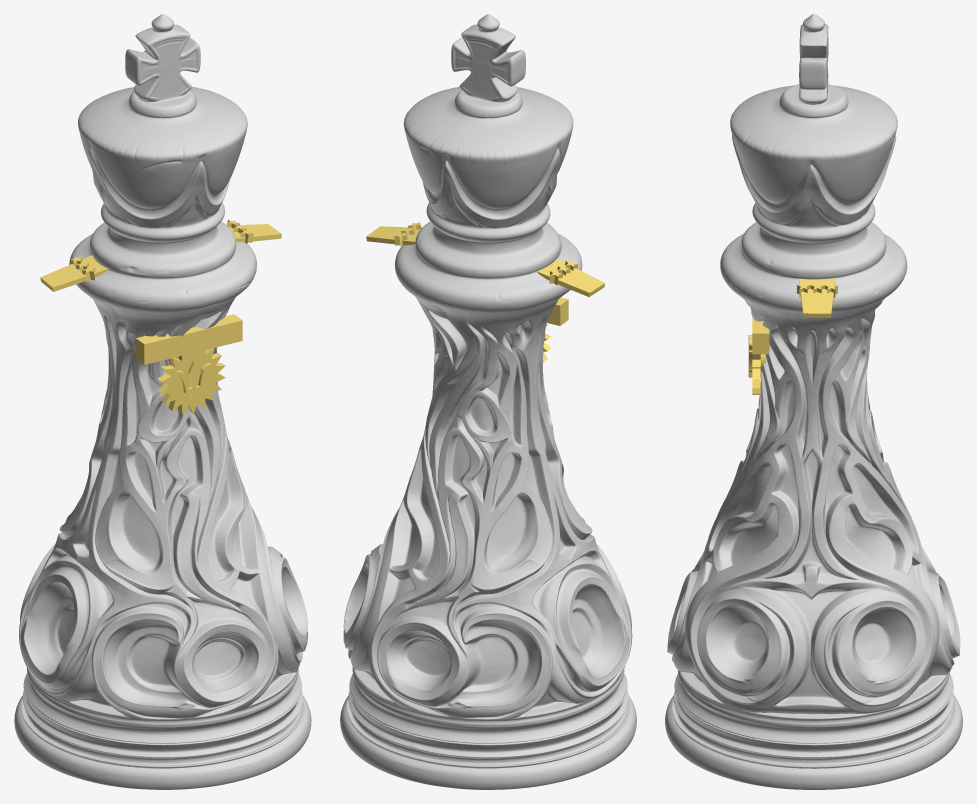
File: King - President.glb
3 views of the same model, side by side, from view 1: azimuth 30°, elevation 25°; view 2: azimuth 150°, elevation 25°; view 3: azimuth 270°, elevation 25° (orthographic).
Visible parts, largest first — view 1: obj_12_król, MedalBar, MedalDisc, EpauletteL, Curve.003, EpauletteL.001; view 2: obj_12_król, EpauletteL, EpauletteL.001; view 3: obj_12_król, EpauletteL.001, MedalBar.
Boxes of the visible parts, x1,y1,x2,y2 form: obj_12_król: (14, 14, 311, 789); MedalBar: (136, 314, 242, 364); MedalDisc: (157, 345, 225, 414); EpauletteL: (40, 255, 108, 291); Curve.003: (176, 361, 211, 401); EpauletteL.001: (229, 224, 281, 242); obj_12_król: (340, 14, 636, 789); EpauletteL: (537, 258, 604, 296); EpauletteL.001: (366, 226, 420, 245); obj_12_król: (665, 14, 962, 789); EpauletteL.001: (799, 278, 835, 317); MedalBar: (752, 317, 769, 354).
Size of the model in its own units: 0.5642 by 1.5 by 0.5668.
